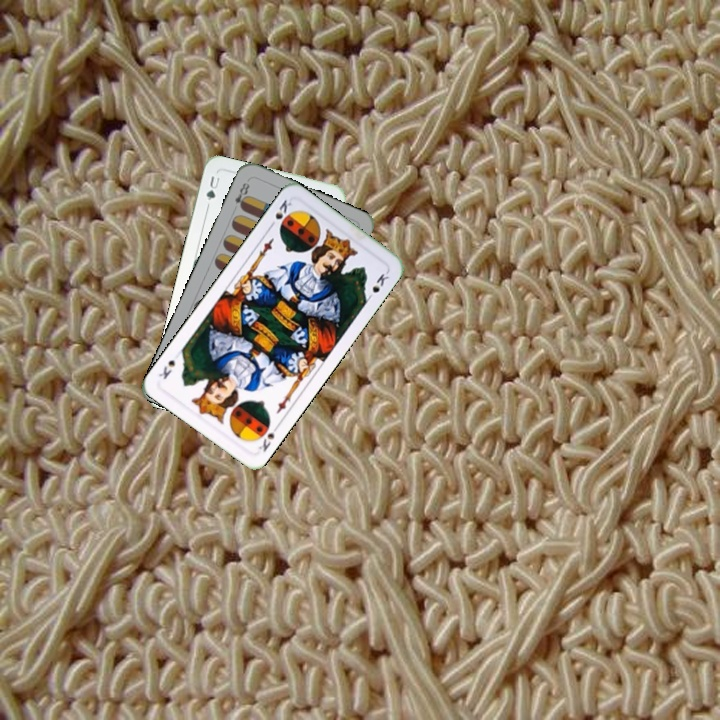E8: (231, 178, 252, 212)
GU: (202, 171, 222, 203)
SK: (265, 195, 294, 231), (254, 420, 282, 454)
